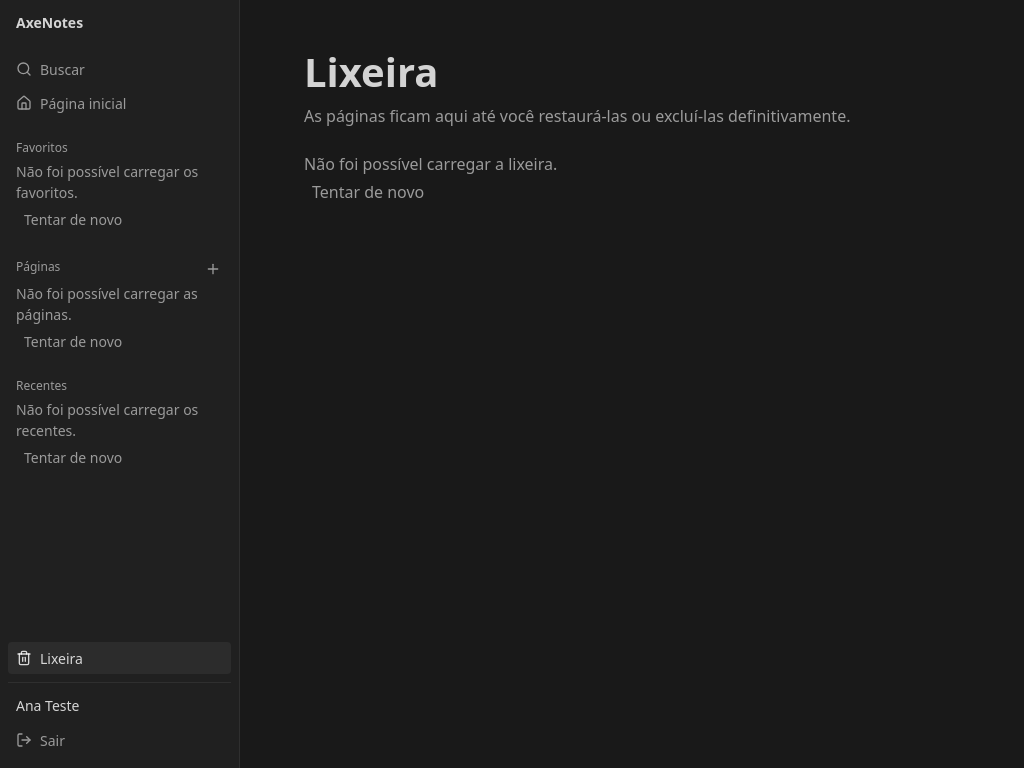
Test: tela /lixeira › shows a retryable error when the trash does not load
Expected: the text "Não foi possível carregar a lixeira." is shown, [304, 153, 557, 175]
Click the button "Tentar de novo" below "Não foi possível carregar a lixeira.": (368, 192) [304, 176, 432, 208]
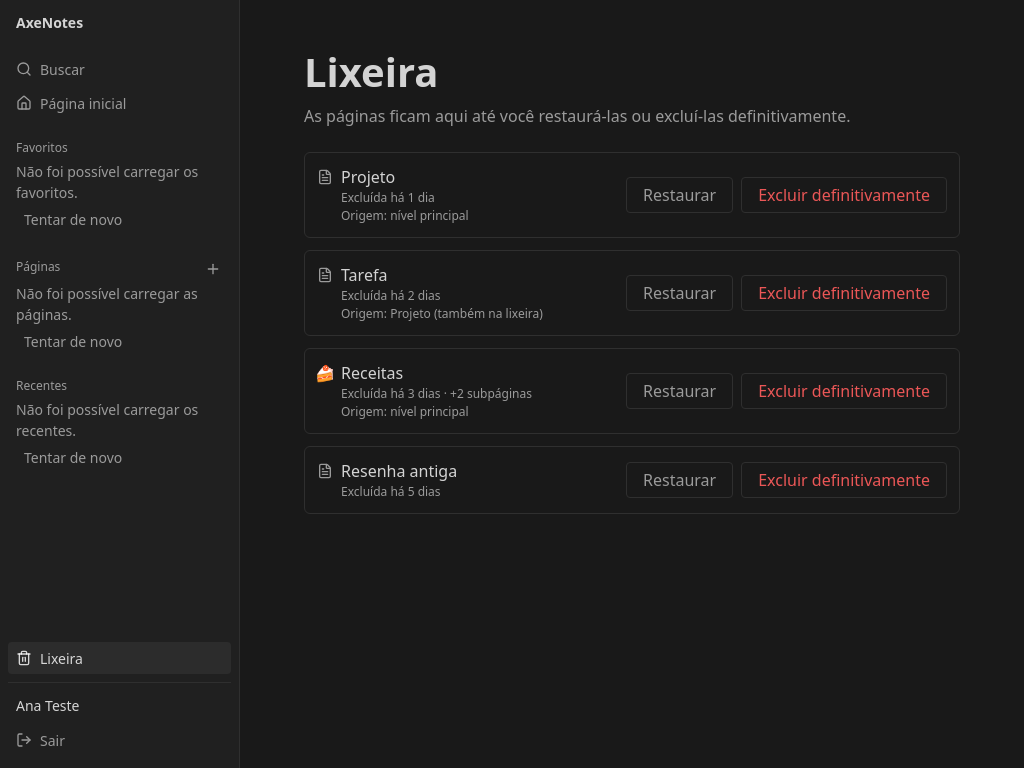
Now the list named "Páginas na lixeira" is shown, box [304, 152, 960, 514]
